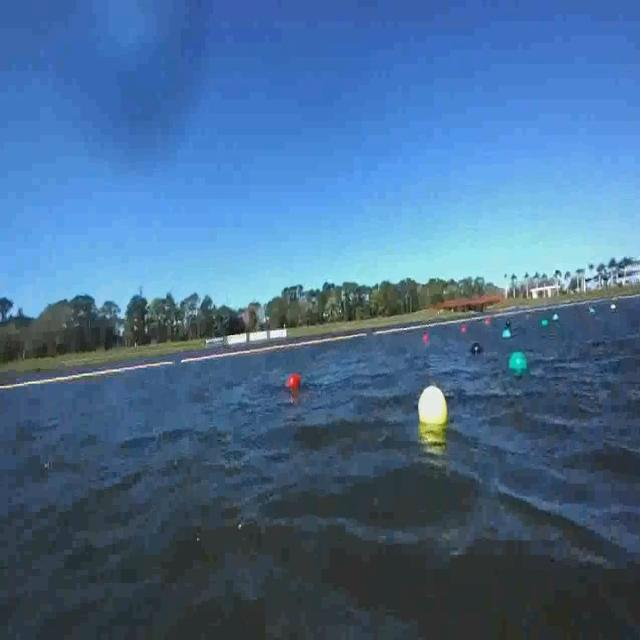black-buoy: (470, 342, 482, 356)
green-buoy: (510, 350, 529, 375)
red-buoy: (289, 372, 300, 388)
yellow-buoy: (418, 386, 448, 430)
